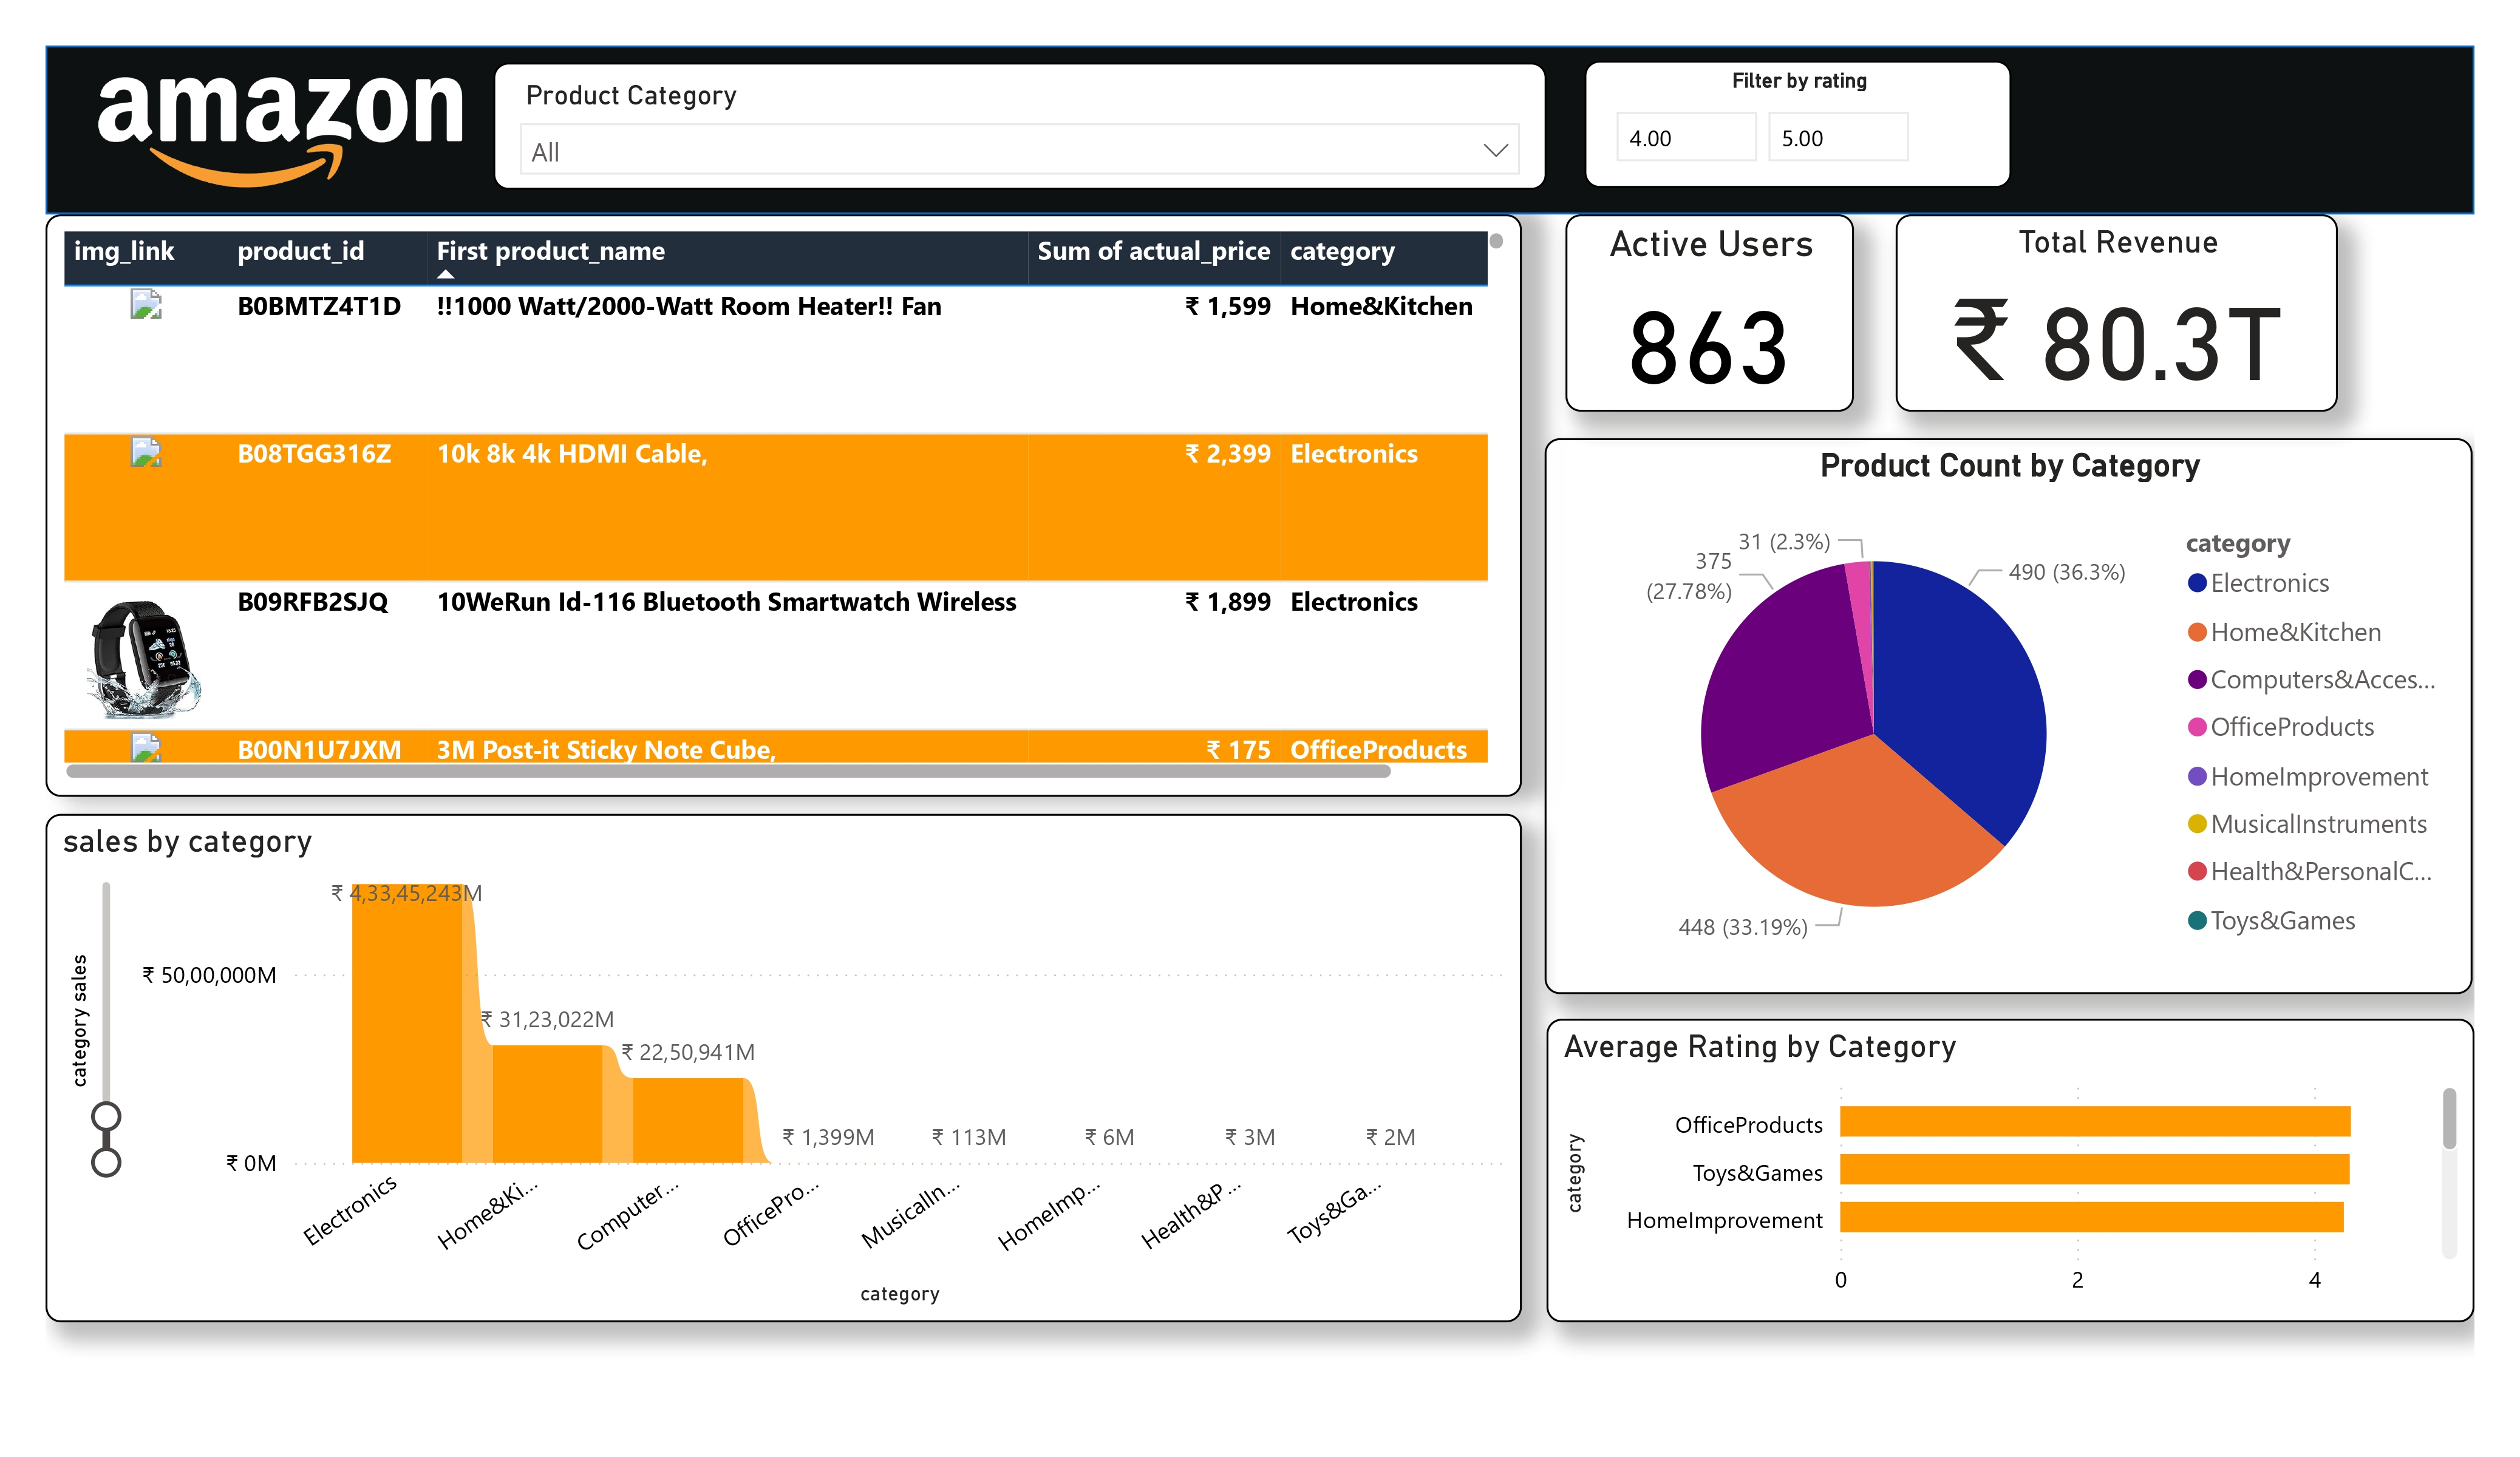

The dashboard page shown, as its layout file describes it:
{"tool":"powerbi","page":{"name":"Page 1","canvas":[1280,720],"ordinal":0},"visuals":[{"type":"tableEx","fields":{"Values":["amazon.img_link","amazon.product_id","amazon.product_name","Sum(amazon.actual_price)","amazon.category"]},"box":[0,88.9,777.8,306.7],"z":0},{"type":"shape","box":[0,0,1280,88.9],"z":1000},{"type":"image","box":[23.3,0,203.3,102.2],"z":2000},{"type":"slicer","fields":{"Values":["amazon.category"]},"box":[235.6,8.9,555.6,66.7],"z":3000},{"type":"pieChart","title":"Product Count by Category","fields":{"Category":["amazon.category"],"Y":["amazon.Product Count by Category"]},"box":[790.5,207.1,488.1,292.9],"z":4000},{"type":"card","title":"Active Users","fields":{"Values":["amazon.active users"]},"box":[801,89.3,151.6,103.9],"z":5000},{"type":"card","title":"Total Revenue","fields":{"Values":["amazon.total revenue"]},"box":[974.6,89.3,233.6,103.9],"z":6000},{"type":"columnChart","title":"sales by category","fields":{"Category":["amazon.category"],"Y":["amazon.category sales"]},"box":[0,404.8,777.7,267.8],"z":7000},{"type":"barChart","title":"Average Rating by Category ","fields":{"Y":["amazon.category average rating"],"Category":["amazon.category"]},"box":[791,513,489,160],"z":8000},{"type":"slicer","title":"Filter by rating","fields":{"Values":["amazon.rating"]},"box":[810.7,8.3,225,66.7],"z":8001}]}

Visuals, with their boxes in screenshot pixels (x1, y1, x2, y2):
tableEx - amazon.img_link x amazon.product_id: <box>46,214,1522,796</box>
shape: <box>46,46,2474,214</box>
image: <box>90,46,475,239</box>
slicer - amazon.category: <box>492,63,1547,189</box>
"Product Count by Category" pieChart: <box>1545,438,2472,994</box>
"Active Users" card: <box>1565,215,1853,412</box>
"Total Revenue" card: <box>1895,215,2338,412</box>
"sales by category" columnChart: <box>46,813,1521,1322</box>
"Average Rating by Category " barChart: <box>1547,1019,2474,1322</box>
"Filter by rating" slicer: <box>1584,61,2011,188</box>
